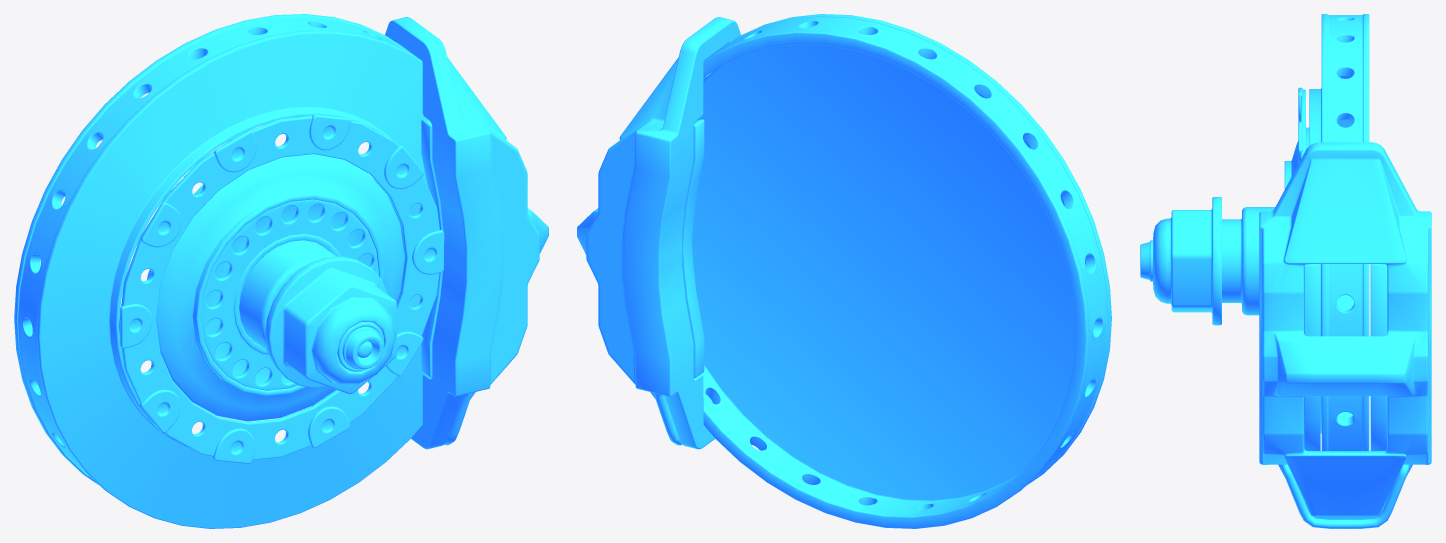
3 views of the same model, side by side, from view 1: azimuth 30°, elevation 25°; view 2: azimuth 150°, elevation 25°; view 3: azimuth 270°, elevation 25° (orthographic). The views are drawn at different scales.
Parts seen in each view (by area): view 1: 902420; view 2: 902420; view 3: 902420.
Part boxes in pixels (box(x1,y1,x2,y2)): 902420: box(14, 14, 548, 528); 902420: box(577, 14, 1111, 528); 902420: box(1140, 14, 1431, 528).
Size of the model in its own units: 2.99 by 2.82 by 1.66.
